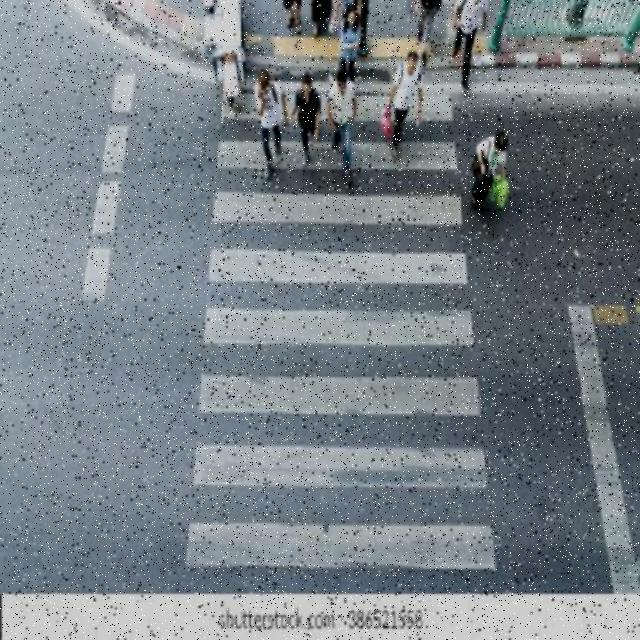Pedestrian crosswalk: (158, 72, 514, 588)
